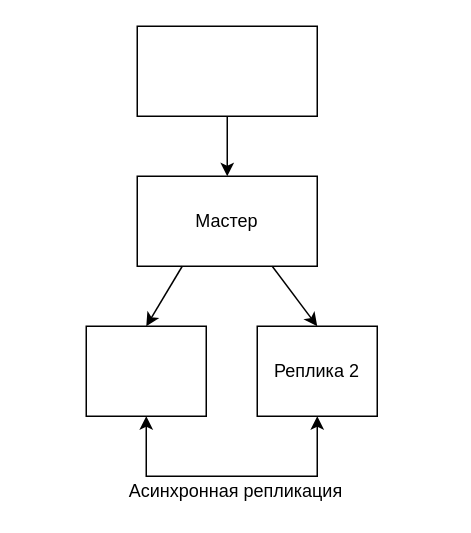
Image size: 471x533. Some labels were removed from this diagram. Each missing label, with the centre of its shape:
Клиент: (x=226, y=70)
Реплика 1: (x=145, y=370)
